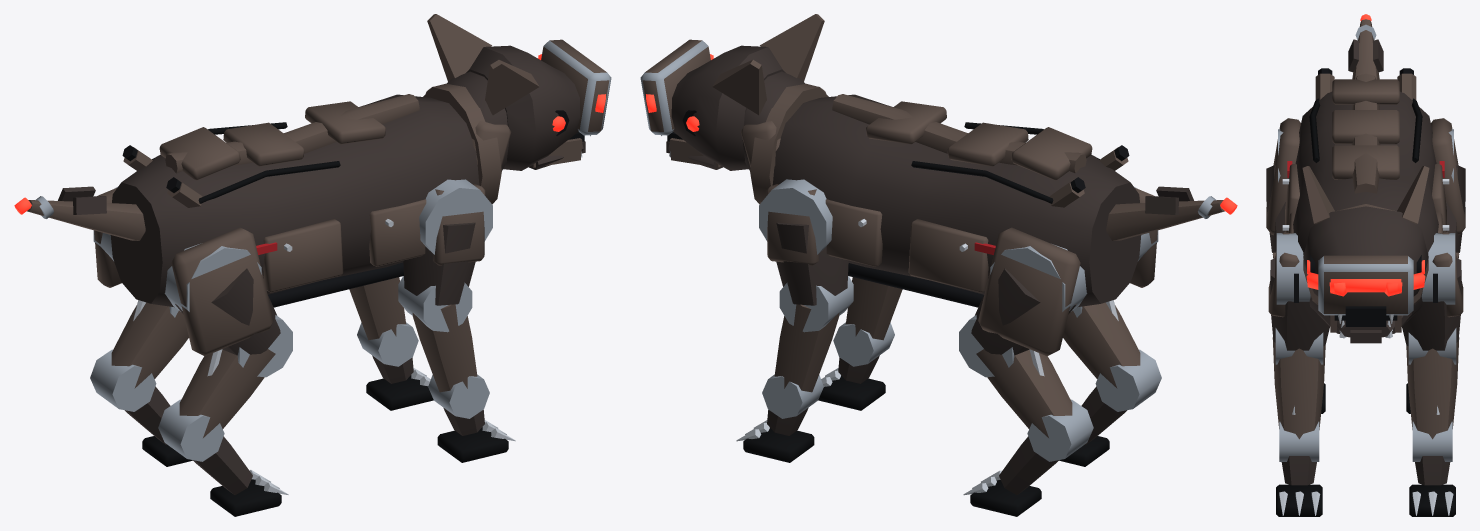
File: enemigo_sabueso.glb
3 views of the same model, side by side, from view 1: azimuth 30°, elevation 25°; view 2: azimuth 150°, elevation 25°; view 3: azimuth 270°, elevation 25° (orthographic). The views are drawn at different scales.
Parts seen in each view (by area): view 1: lomo, mov_pata_3, mov_pata_1, mov_pata_4, craneo, mov_pata_2, faldon_2, mascara, faldon_1, cresta_lomo, collar, cola (+10 smaller); view 2: lomo, mov_pata_4, mov_pata_2, mov_pata_3, craneo, mov_pata_1, faldon_4, mascara, faldon_3, cresta_lomo, collar, cola (+10 smaller); view 3: mov_pata_1, mov_pata_2, lomo, craneo, mascara, mov_pata_3, mov_pata_4, placa_lomo_2, placa_lomo_3, placa_lomo_1, cresta_lomo, mov_mandibula (+16 smaller).
Part boxes in pixels (x1=…): lomo: x1=110, y1=94, x2=479, y2=307; mov_pata_3: x1=158, y1=227, x2=292, y2=516; mov_pata_1: x1=398, y1=179, x2=515, y2=462; mov_pata_4: x1=90, y1=187, x2=192, y2=466; craneo: x1=466, y1=45, x2=580, y2=170; mov_pata_2: x1=349, y1=277, x2=433, y2=410; faldon_2: x1=263, y1=219, x2=343, y2=292; mascara: x1=541, y1=39, x2=611, y2=135; faldon_1: x1=369, y1=199, x2=426, y2=266; cresta_lomo: x1=165, y1=94, x2=419, y2=173; collar: x1=423, y1=83, x2=501, y2=204; cola: x1=27, y1=200, x2=145, y2=240; lomo: x1=772, y1=94, x2=1141, y2=307; mov_pata_4: x1=959, y1=227, x2=1093, y2=516; mov_pata_2: x1=736, y1=179, x2=853, y2=462; mov_pata_3: x1=1059, y1=187, x2=1161, y2=466; craneo: x1=671, y1=45, x2=785, y2=170; mov_pata_1: x1=818, y1=277, x2=902, y2=410; faldon_4: x1=908, y1=219, x2=988, y2=292; mascara: x1=640, y1=39, x2=710, y2=135; faldon_3: x1=825, y1=199, x2=882, y2=266; cresta_lomo: x1=832, y1=94, x2=1086, y2=173; collar: x1=750, y1=83, x2=828, y2=204; cola: x1=1106, y1=200, x2=1224, y2=240; mov_pata_1: x1=1268, y1=232, x2=1329, y2=516; mov_pata_2: x1=1402, y1=232, x2=1463, y2=516; lomo: x1=1293, y1=91, x2=1438, y2=333; craneo: x1=1303, y1=206, x2=1428, y2=296; mascara: x1=1318, y1=255, x2=1413, y2=315; mov_pata_3: x1=1266, y1=118, x2=1325, y2=413; mov_pata_4: x1=1406, y1=118, x2=1465, y2=413; placa_lomo_2: x1=1332, y1=110, x2=1399, y2=144; placa_lomo_3: x1=1332, y1=145, x2=1399, y2=179; placa_lomo_1: x1=1332, y1=79, x2=1399, y2=104; cresta_lomo: x1=1351, y1=73, x2=1380, y2=193; mov_mandibula: x1=1328, y1=315, x2=1403, y2=343.
Size of the model in its own units: 1.31 by 0.823 by 0.4193.
